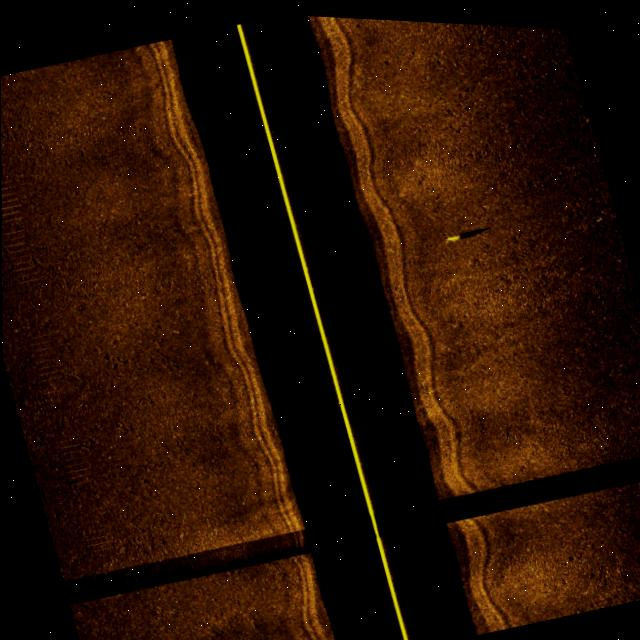mine: (432, 210, 493, 246)
